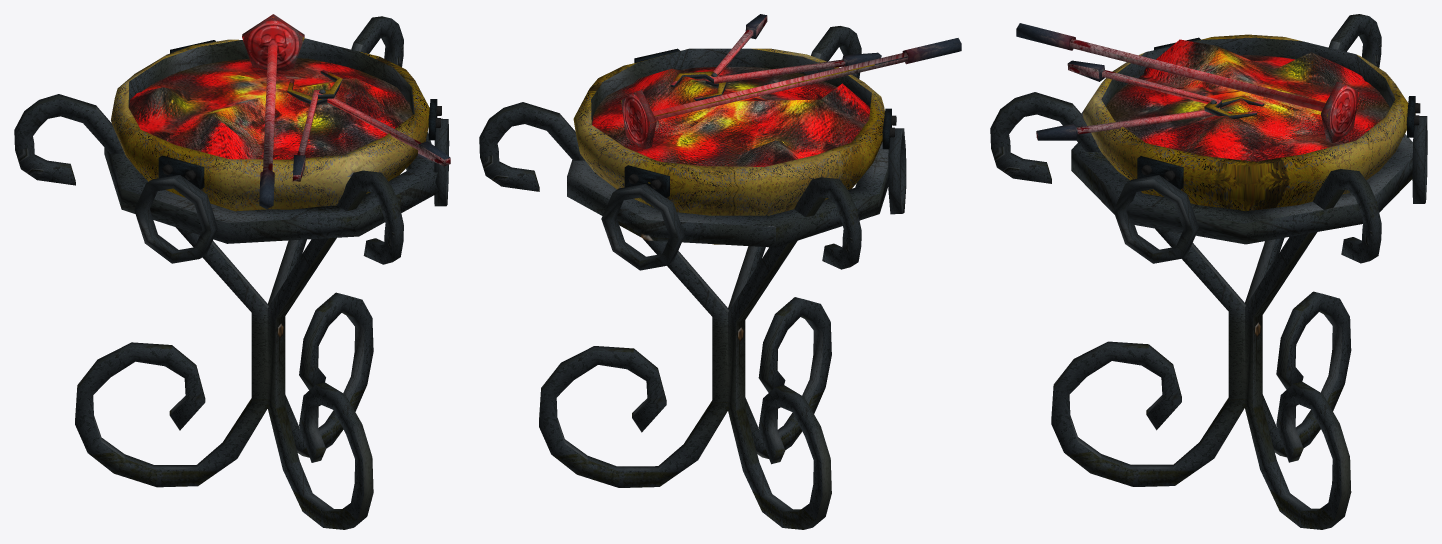
Rendered from Brazier.fbx.
3 views of the same model, side by side, from view 1: azimuth 30°, elevation 25°; view 2: azimuth 150°, elevation 25°; view 3: azimuth 270°, elevation 25° (orthographic). The views are drawn at different scales.
Visible parts, largest first — view 1: Brazier:Mesh; view 2: Brazier:Mesh; view 3: Brazier:Mesh.
Boxes of the visible parts, bbox=[...] form: Brazier:Mesh: bbox=[14, 14, 450, 529]; Brazier:Mesh: bbox=[479, 14, 961, 529]; Brazier:Mesh: bbox=[990, 14, 1427, 529].
Bounding box in the file's own units: 1.08 × 1.12 × 1.04.
